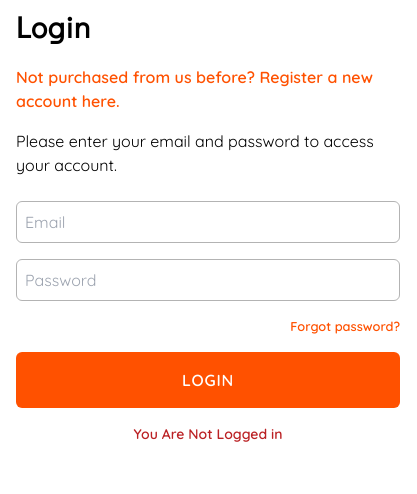
Test: displays error message when incorrect email or password is entered
// enter incorrect email and password
Type "test@example.com" into the field with placeholder "Email" at (208,222), box [16, 201, 400, 243]
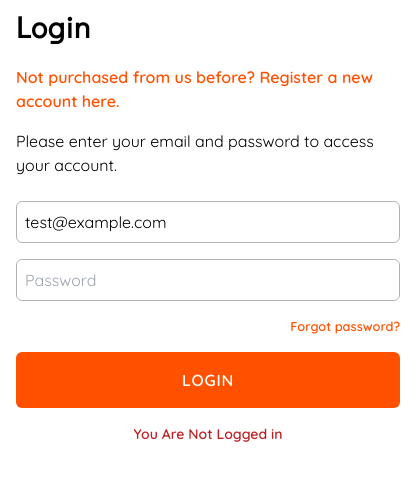
Type "incorrectpassword" into the password field with placeholder "Password" at (208,280), box [16, 259, 400, 301]
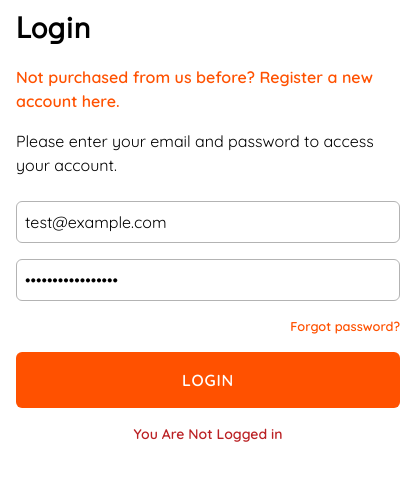
// submit the form
Click the button "LOGIN" at (208,380), box [16, 352, 400, 408]
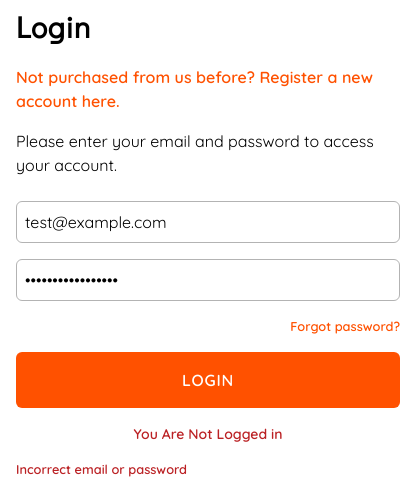
Result: the text "Incorrect email or password" is shown at [16, 461, 187, 477]
